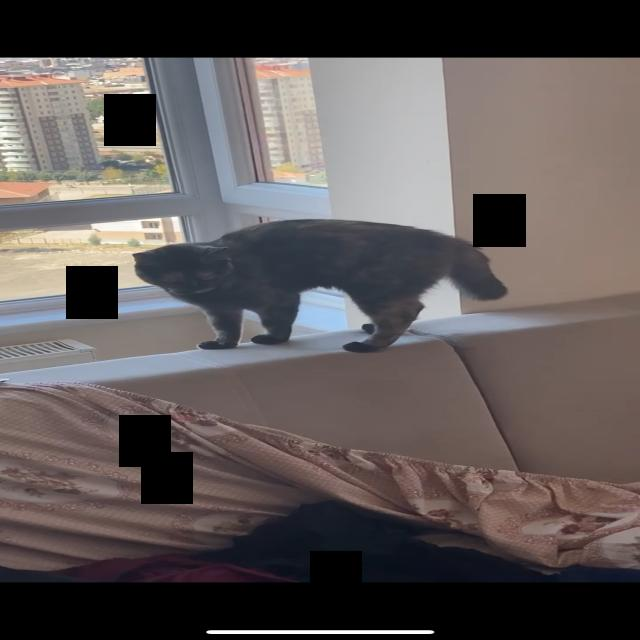authorized: (131, 218, 508, 353)
